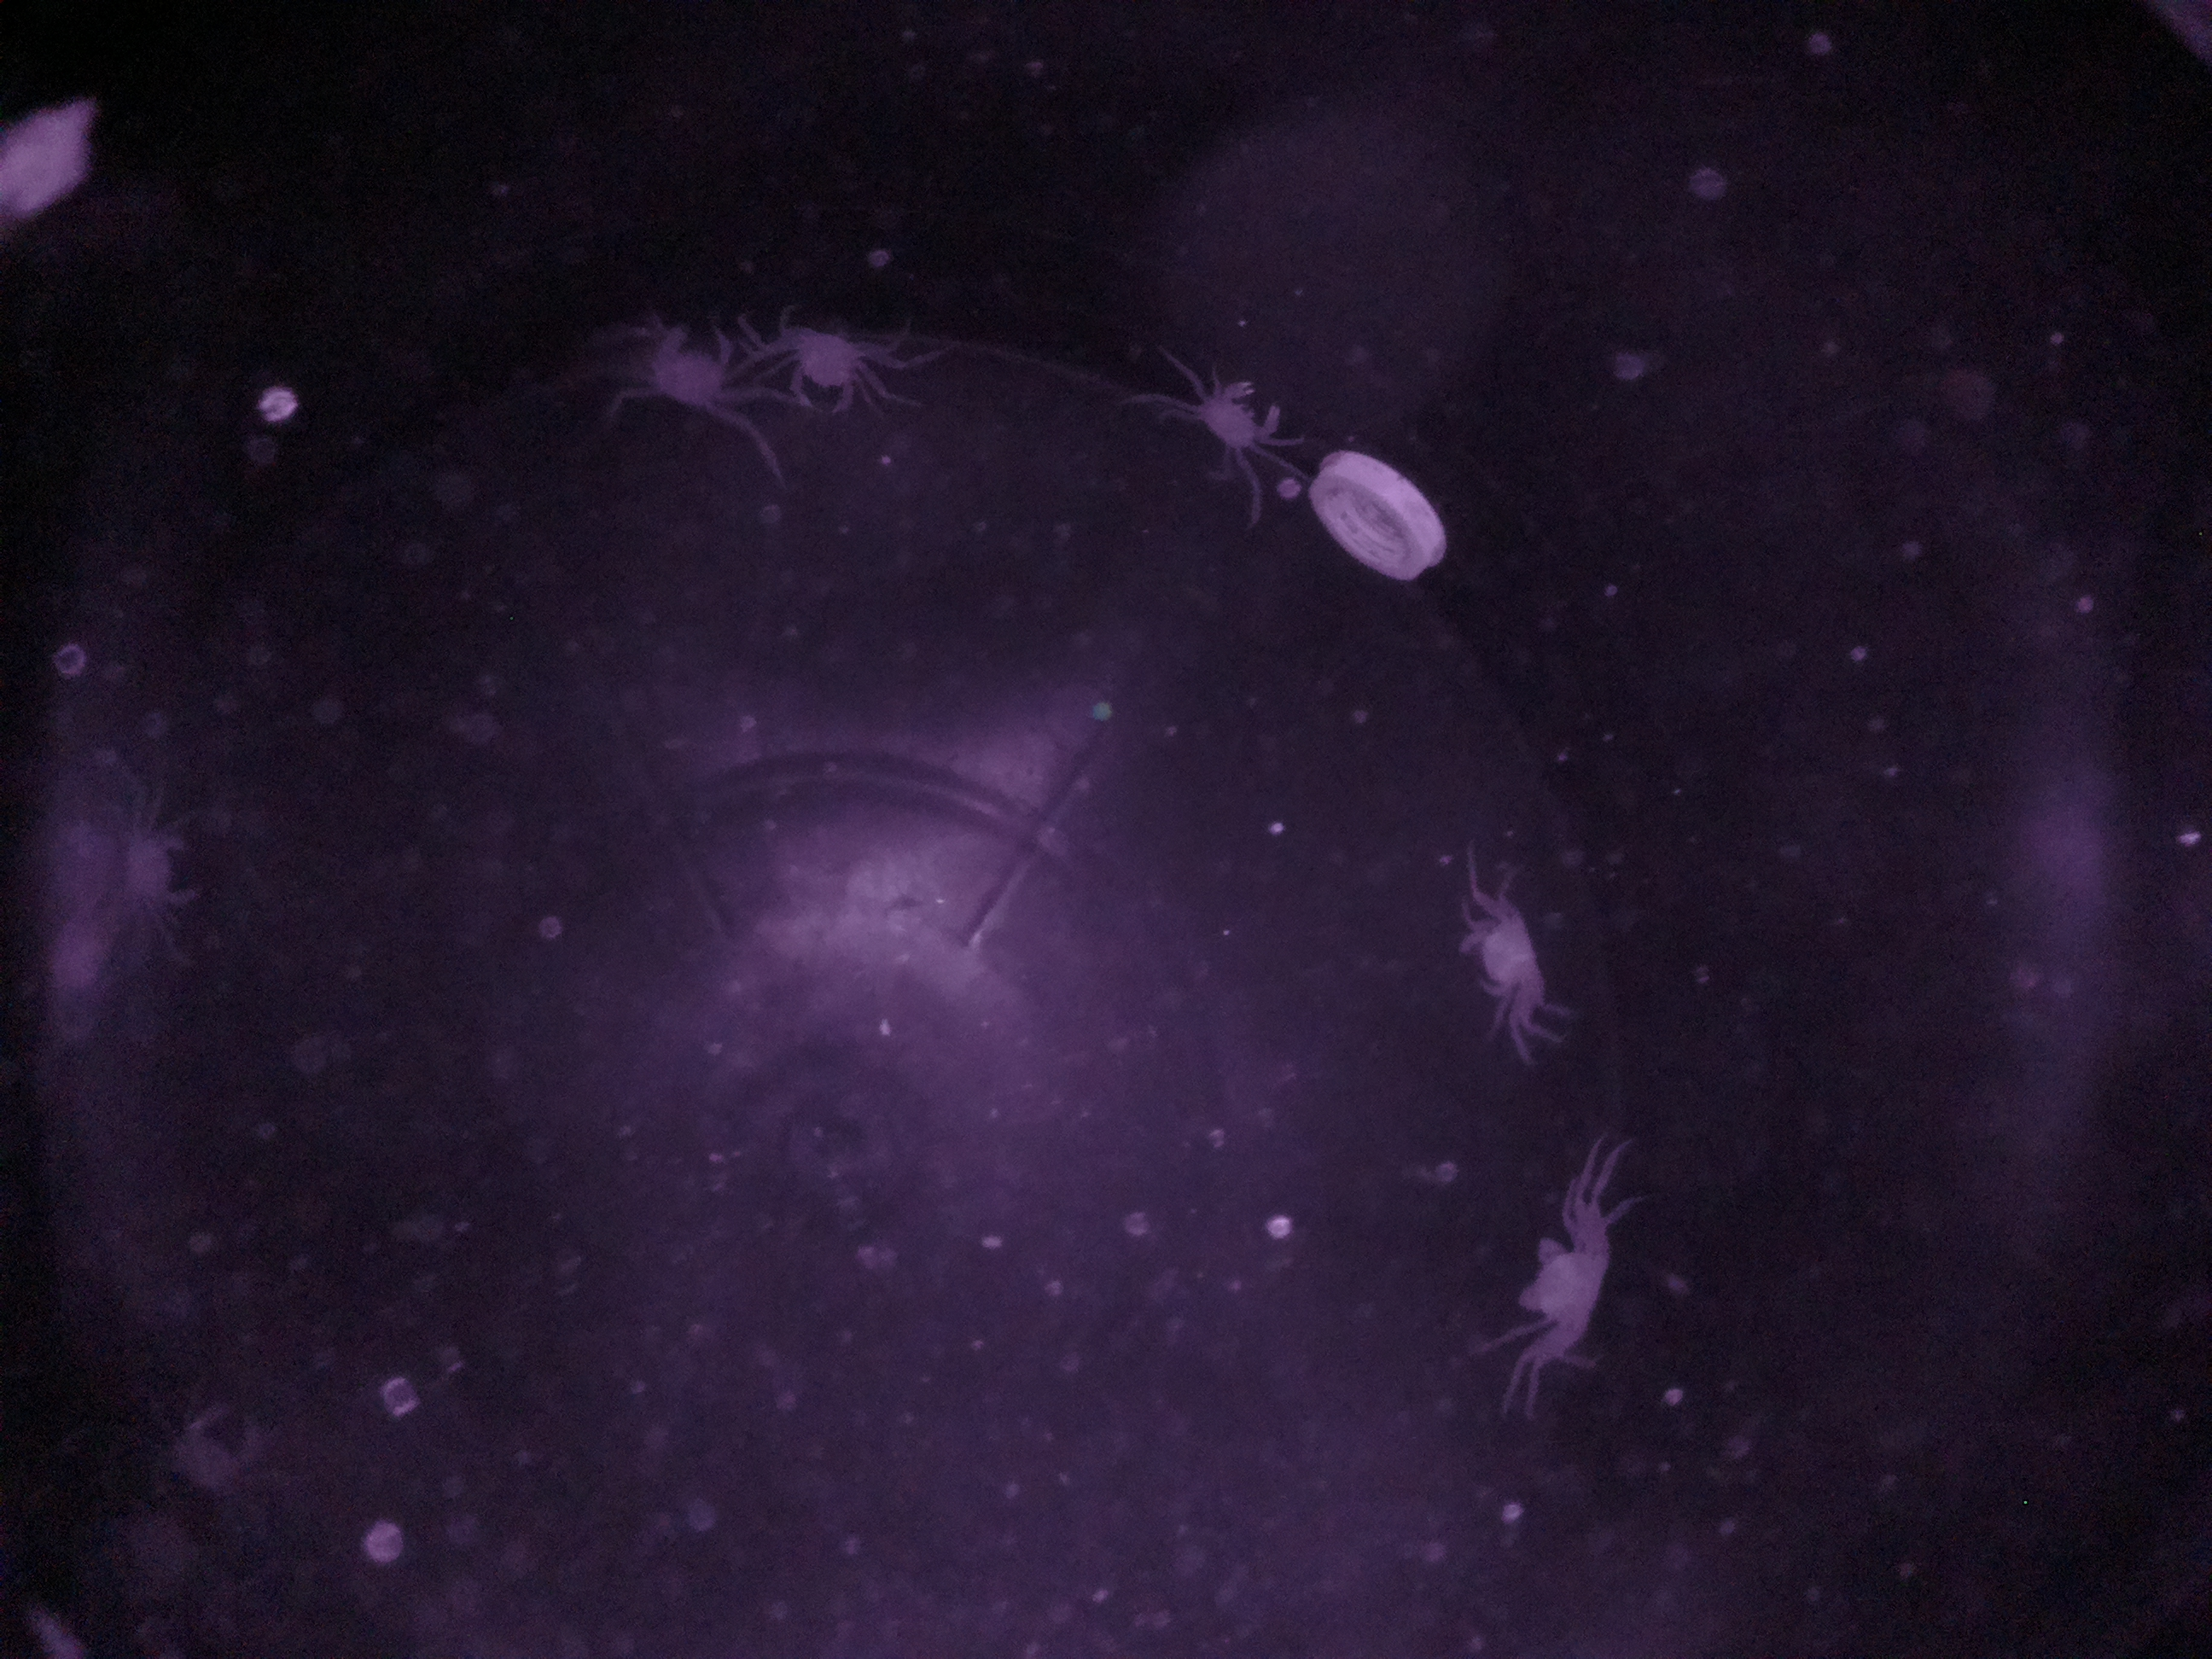Crab: (1496, 1202, 1634, 1385), (1446, 896, 1578, 1014), (768, 296, 873, 446), (636, 301, 740, 446), (1183, 357, 1289, 483)
